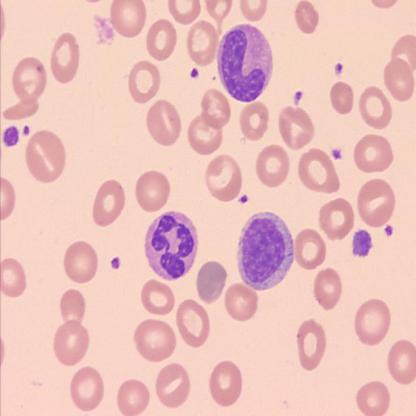Band Neutrophil: (216, 22, 276, 103), (143, 207, 201, 283)
